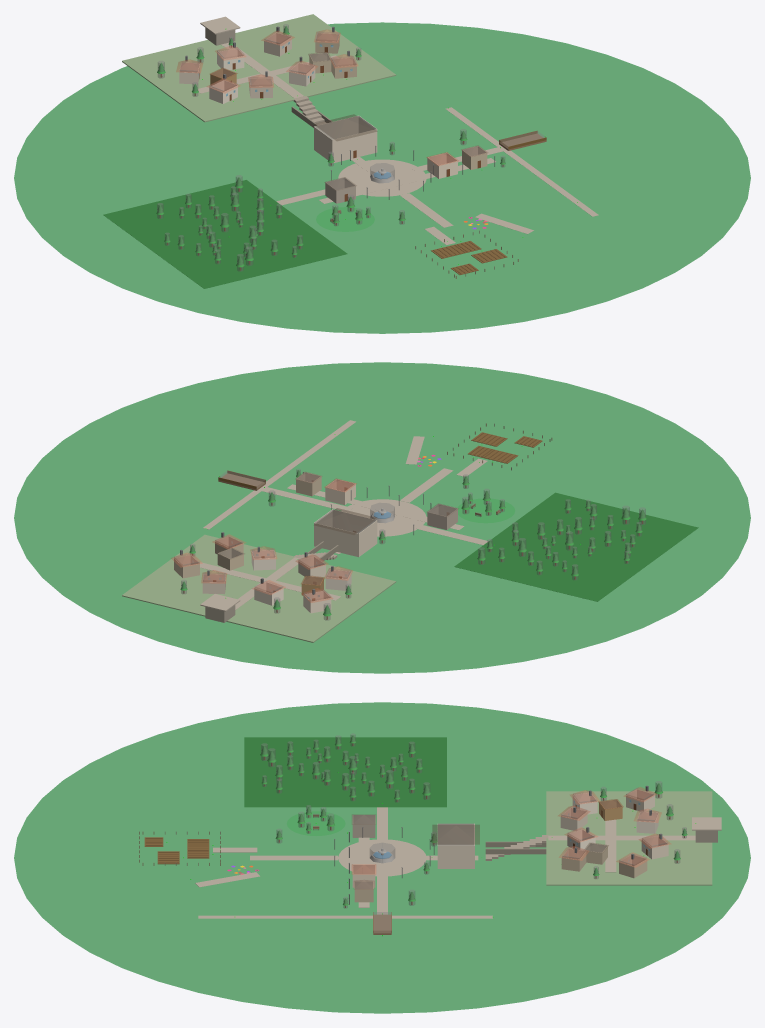
Rendered from seirei-world.glb.
3 renders of one model, top to bottom at view 1: azimuth 30°, elevation 25°; view 2: azimuth 150°, elevation 25°; view 3: azimuth 270°, elevation 25°, orthographic.
Visible parts, largest first — view 1: vis_terrain, vis_forest_floor, vis_highland_ground, vis_cityhall_0, vis_plaza_central, vis_park_grass, vis_riverside_path, col_cityhall_0, vis_bakery_0, vis_toolshop_0, vis_path_shopstreet, vis_highland_path_main (+8 smaller); view 2: vis_terrain, vis_forest_floor, vis_highland_ground, vis_cityhall_0, vis_plaza_central, vis_park_grass, vis_riverside_path, col_cityhall_0, vis_toolshop_0, vis_bakery_0, vis_house_5, vis_path_shopstreet (+10 smaller); view 3: vis_terrain, vis_forest_floor, vis_highland_ground, vis_cityhall_0, vis_plaza_central, vis_riverside_path, vis_park_grass, col_cityhall_0, vis_house_4, vis_house_6, vis_house_7, vis_house_1 (+6 smaller).
Boxes of the visible parts, x1=… form: vis_terrain: x1=14, y1=22, x2=750, y2=333; vis_forest_floor: x1=103, y1=180, x2=347, y2=288; vis_highland_ground: x1=122, y1=14, x2=396, y2=122; vis_cityhall_0: x1=314, y1=114, x2=377, y2=163; vis_plaza_central: x1=338, y1=159, x2=426, y2=196; vis_park_grass: x1=316, y1=207, x2=374, y2=231; vis_riverside_path: x1=445, y1=107, x2=598, y2=216; col_cityhall_0: x1=315, y1=116, x2=375, y2=139; vis_bakery_0: x1=426, y1=152, x2=458, y2=178; vis_toolshop_0: x1=324, y1=177, x2=356, y2=203; vis_path_shopstreet: x1=319, y1=158, x2=495, y2=203; vis_highland_path_main: x1=221, y1=42, x2=303, y2=98; vis_terrain: x1=14, y1=362, x2=750, y2=673; vis_forest_floor: x1=454, y1=492, x2=698, y2=601; vis_highland_ground: x1=122, y1=534, x2=396, y2=642; vis_cityhall_0: x1=314, y1=508, x2=377, y2=557; vis_plaza_central: x1=341, y1=499, x2=426, y2=536; vis_park_grass: x1=457, y1=498, x2=515, y2=523; vis_riverside_path: x1=203, y1=420, x2=355, y2=529; col_cityhall_0: x1=315, y1=510, x2=376, y2=533; vis_toolshop_0: x1=427, y1=503, x2=458, y2=529; vis_bakery_0: x1=324, y1=478, x2=356, y2=505; vis_house_5: x1=252, y1=578, x2=285, y2=605; vis_path_shopstreet: x1=287, y1=484, x2=464, y2=530; vis_terrain: x1=14, y1=702, x2=750, y2=1013; vis_forest_floor: x1=244, y1=737, x2=446, y2=807; vis_highland_ground: x1=546, y1=791, x2=712, y2=885; vis_cityhall_0: x1=432, y1=823, x2=479, y2=868; vis_plaza_central: x1=338, y1=839, x2=425, y2=876; vis_riverside_path: x1=198, y1=915, x2=492, y2=918; vis_park_grass: x1=286, y1=811, x2=345, y2=835; col_cityhall_0: x1=438, y1=824, x2=474, y2=845; vis_house_4: x1=624, y1=785, x2=656, y2=811; vis_house_6: x1=639, y1=833, x2=670, y2=859; vis_house_7: x1=616, y1=852, x2=649, y2=878; vis_house_1: x1=558, y1=805, x2=590, y2=830.
Bounding box in the file's own units: 200 × 12.42 × 200.
